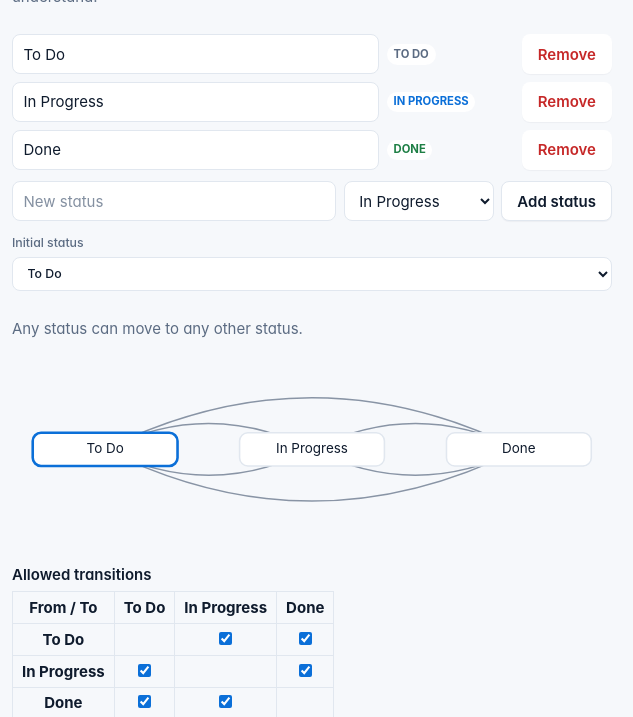
Test case: WorkflowEditor (KYB-S43) › adds a status and saves the workflow
Expected: the field named "Status 2 name" holds "In Progress", [12, 82, 379, 122]
Type "Code Review" into the field named "New status name" at (174, 201), box [12, 181, 336, 222]
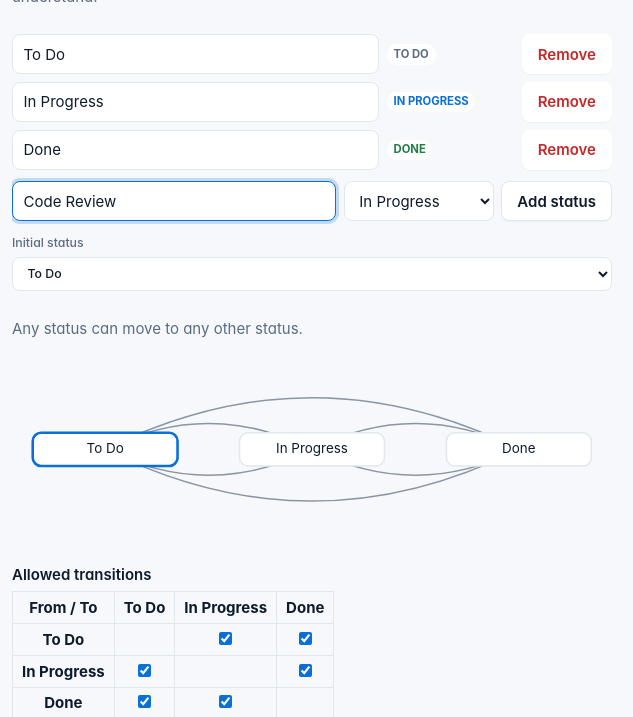
Select "In Progress" in the dropdown named "New status category" at (419, 201), box [344, 181, 494, 222]
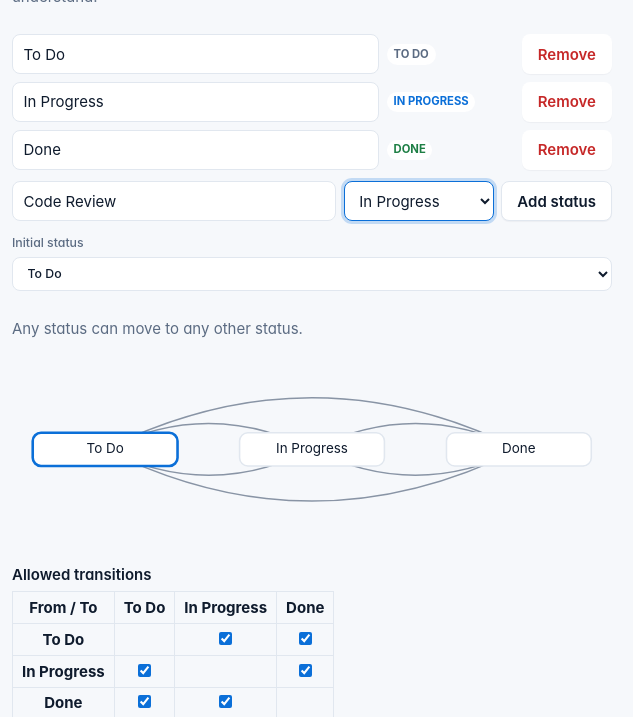
Click the button "Add status" at (557, 201), box [501, 181, 612, 222]
(page scrolled)
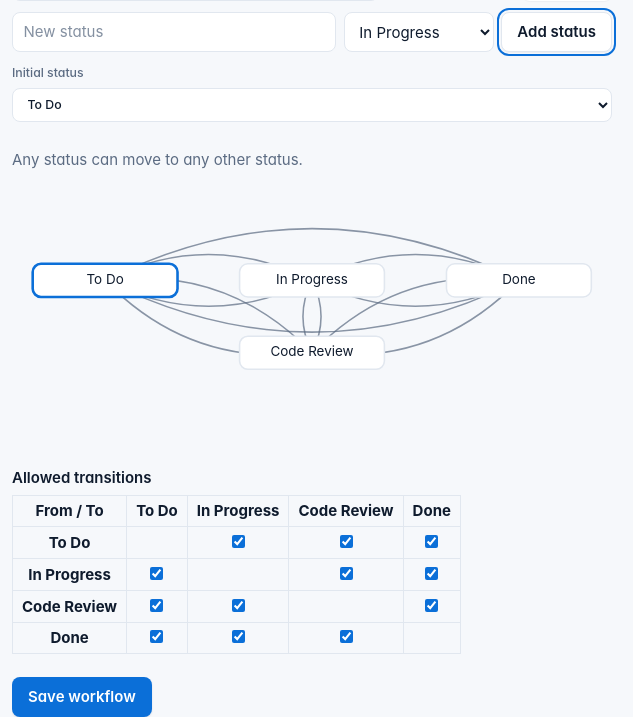
Click the button "Save workflow" at (82, 697), box [12, 677, 152, 716]
(page scrolled)
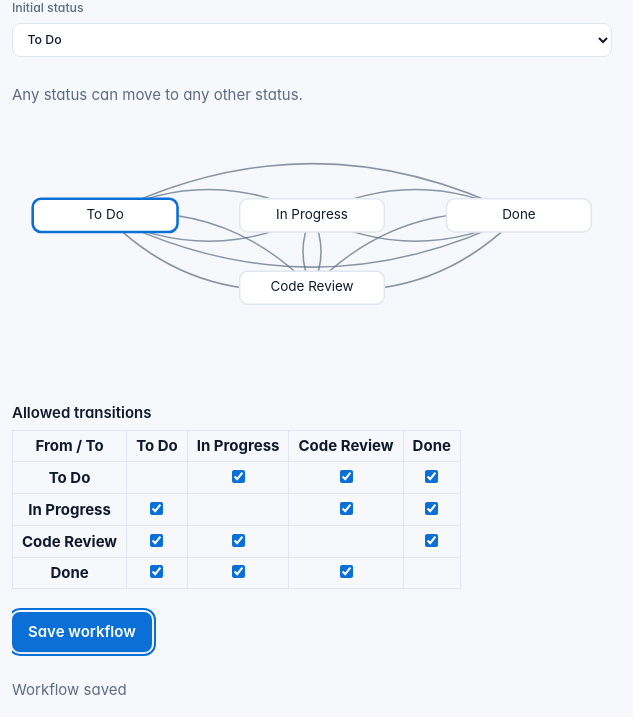
Expected: the message reads "Workflow saved", [12, 680, 127, 699]
